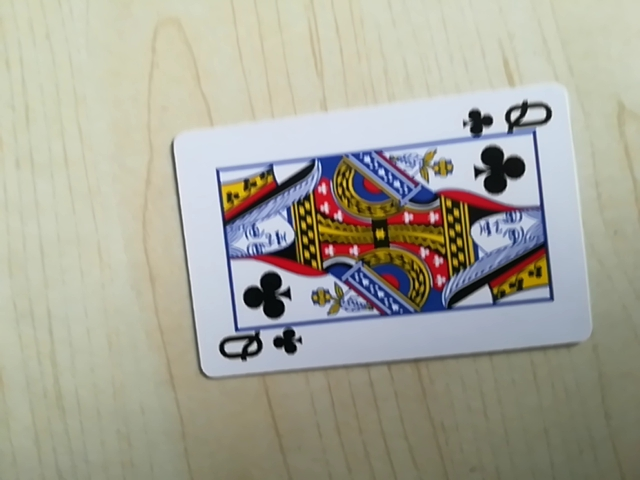mh q: (214, 322, 303, 372), (462, 95, 554, 137)
